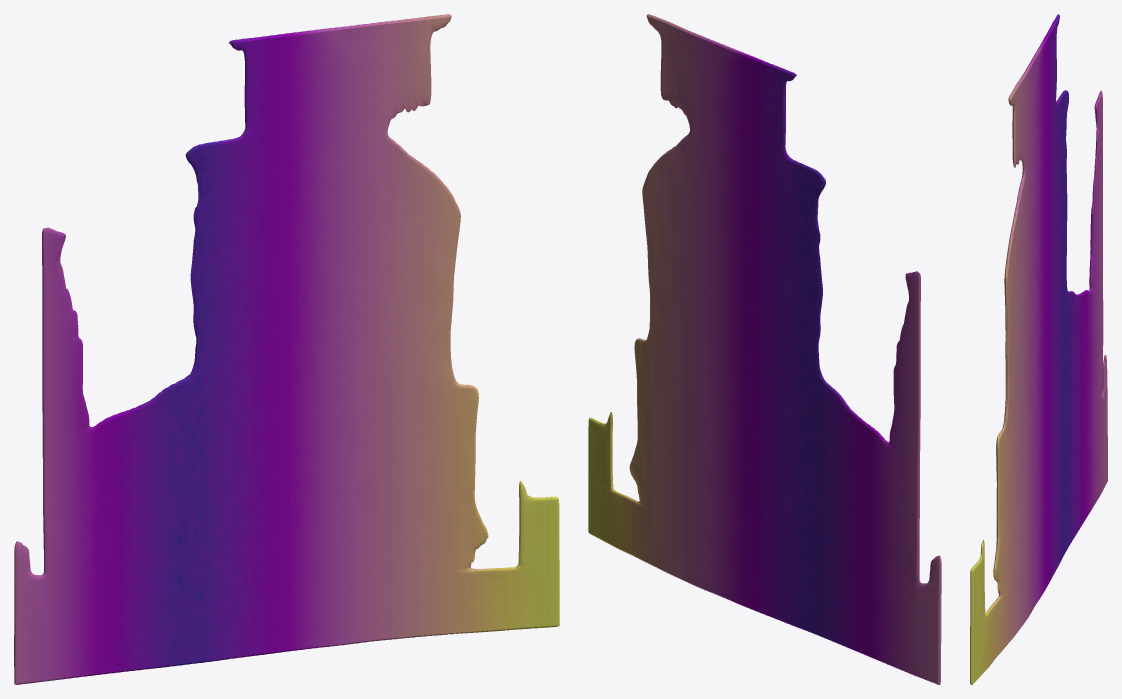
File: iter_2.glb
3 views of the same model, side by side, from view 1: azimuth 30°, elevation 25°; view 2: azimuth 150°, elevation 25°; view 3: azimuth 270°, elevation 25° (orthographic). The views are drawn at different scales.
Visible parts, largest first — view 1: textured_mesh; view 2: textured_mesh; view 3: textured_mesh.
Boxes of the visible parts, box(x1,y1,x2,y2) form: textured_mesh: box(14, 14, 559, 684); textured_mesh: box(588, 14, 941, 684); textured_mesh: box(970, 14, 1107, 684).
Bounding box in the file's own units: 1.59 × 2 × 0.4534.
